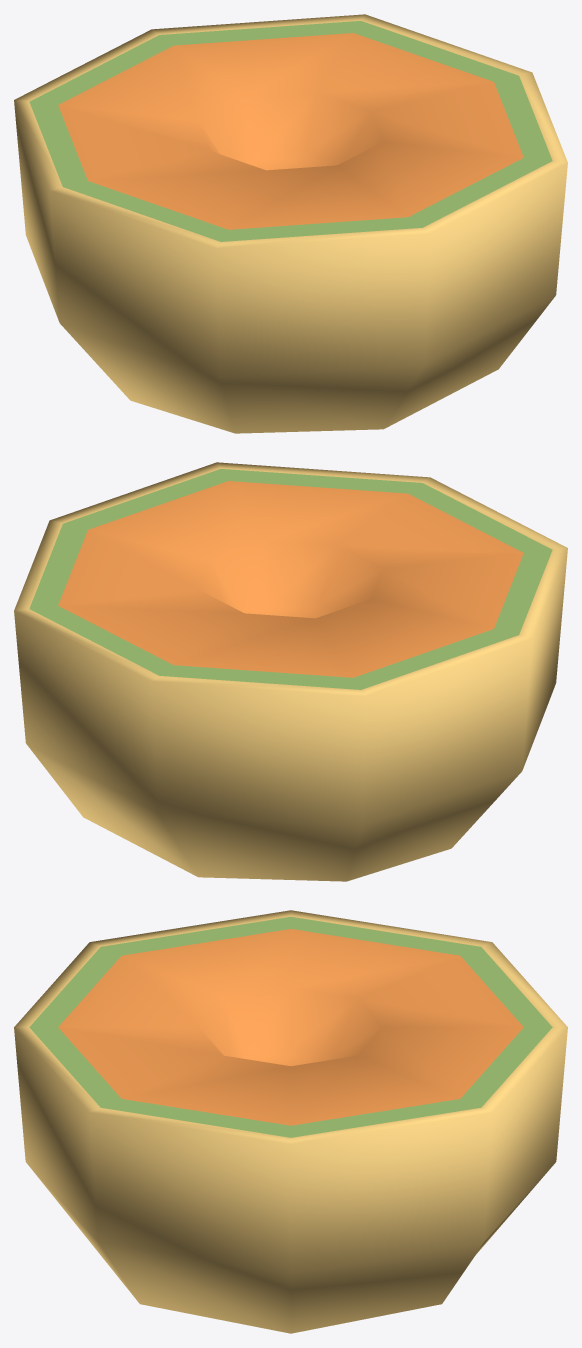
File: melon.fbx
3 renders of one model, top to bottom at view 1: azimuth 30°, elevation 25°; view 2: azimuth 150°, elevation 25°; view 3: azimuth 270°, elevation 25°, orthographic.
Parts seen in each view (by area): view 1: melon; view 2: melon; view 3: melon.
Part boxes in pixels (x1,y1,x2,y2): melon: (14,14,567,433); melon: (14,462,567,881); melon: (14,910,567,1333).
Bounding box in the file's own units: 44.5 × 23.16 × 44.5.
